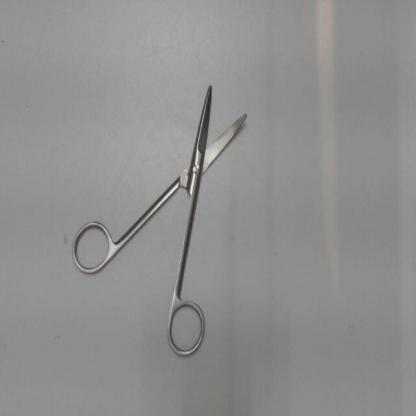Curved Mayo Scissors: (69, 67, 254, 367)
